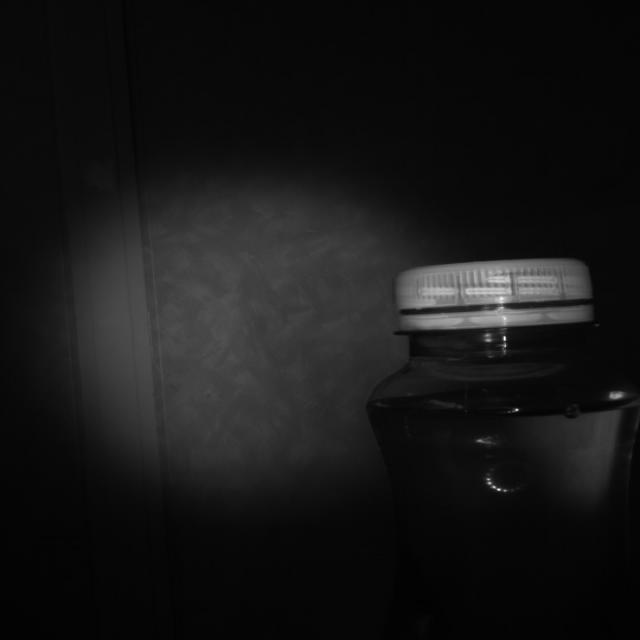Not Good: (396, 256, 592, 332)
